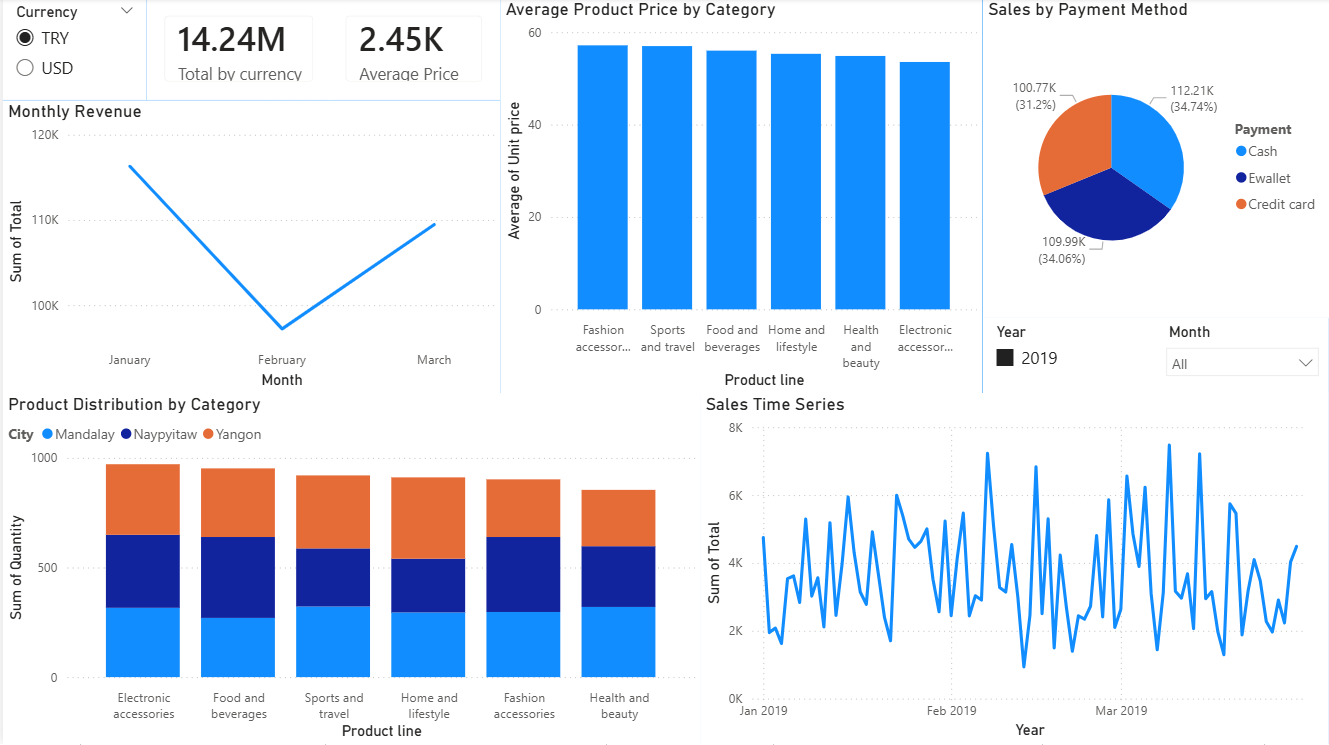

The page's visual inventory and layout, read from the dashboard file:
{"tool":"powerbi","page":{"name":"Dashboard","canvas":[1280,720],"ordinal":0},"visuals":[{"type":"slicer","fields":{"Values":["Table.Currency"]},"box":[0,0,138.6,98.8],"z":0},{"type":"cardVisual","fields":{"Data":["Table.Total by currency"]},"box":[138.6,0,178.4,98.8],"z":1000},{"type":"cardVisual","fields":{"Data":["Table.Average Price"]},"box":[314.2,0,166,98.8],"z":2000},{"type":"clusteredColumnChart","title":"Average Product Price by Category","fields":{"Category":["supermarket_sales - Sheet1.Product line"],"Y":["Avg(supermarket_sales - Sheet1.Unit price)"]},"box":[480.3,0,465.2,381.5],"z":3000},{"type":"lineChart","title":"Monthly Revenue","fields":{"Y":["Sum(supermarket_sales - Sheet1.Total)"],"Category":["supermarket_sales - Sheet1.Date.Variation.Date Hierarchy.Month"]},"box":[0,98.8,480.3,282.7],"z":4000},{"type":"columnChart","title":"Product Distribution by Category","fields":{"Category":["supermarket_sales - Sheet1.Product line"],"Y":["Sum(supermarket_sales - Sheet1.Quantity)"],"Series":["supermarket_sales - Sheet1.City"]},"box":[0,381.5,673.8,338.9],"z":5000},{"type":"pieChart","title":"Sales by Payment Method","fields":{"Category":["supermarket_sales - Sheet1.Payment"],"Y":["Sum(supermarket_sales - Sheet1.Total)"]},"box":[945.5,0,334.8,308.7],"z":6000},{"type":"slicer","fields":{"Values":["supermarket_sales - Sheet1.Date.Variation.Date Hierarchy.Year"]},"box":[945.5,308.7,167.4,72.7],"z":7000},{"type":"slicer","fields":{"Values":["supermarket_sales - Sheet1.Date.Variation.Date Hierarchy.Month"]},"box":[1112.9,308.7,167.4,72.7],"z":8000},{"type":"lineChart","title":"Sales Time Series","fields":{"Category":["supermarket_sales - Sheet1.Date.Variation.Date Hierarchy.Year","supermarket_sales - Sheet1.Date.Variation.Date Hierarchy.Quarter","supermarket_sales - Sheet1.Date.Variation.Date Hierarchy.Month","supermarket_sales - Sheet1.Date.Variation.Date Hierarchy.Day"],"Y":["Sum(supermarket_sales - Sheet1.Total)"]},"box":[673.8,381.5,606.5,338.9],"z":9000}]}

Visuals, with their boxes in screenshot pixels (x1, y1, x2, y2), scaled from the page's 1280x720 canvas onto the 1329x745 screenshot:
slicer - Table.Currency: crop(0, 0, 144, 102)
cardVisual - Table.Total by currency: crop(144, 0, 329, 102)
cardVisual - Table.Average Price: crop(326, 0, 499, 102)
"Average Product Price by Category" clusteredColumnChart: crop(499, 0, 982, 395)
"Monthly Revenue" lineChart: crop(0, 102, 499, 395)
"Product Distribution by Category" columnChart: crop(0, 395, 700, 744)
"Sales by Payment Method" pieChart: crop(982, 0, 1328, 319)
slicer - supermarket_sales - Sheet1.Date.Variation.Date Hierarchy.Year: crop(982, 319, 1156, 395)
slicer - supermarket_sales - Sheet1.Date.Variation.Date Hierarchy.Month: crop(1156, 319, 1328, 395)
"Sales Time Series" lineChart: crop(700, 395, 1328, 744)
